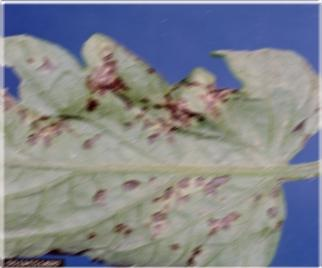Tomato leaf bacterial spot: (1, 31, 318, 259)
